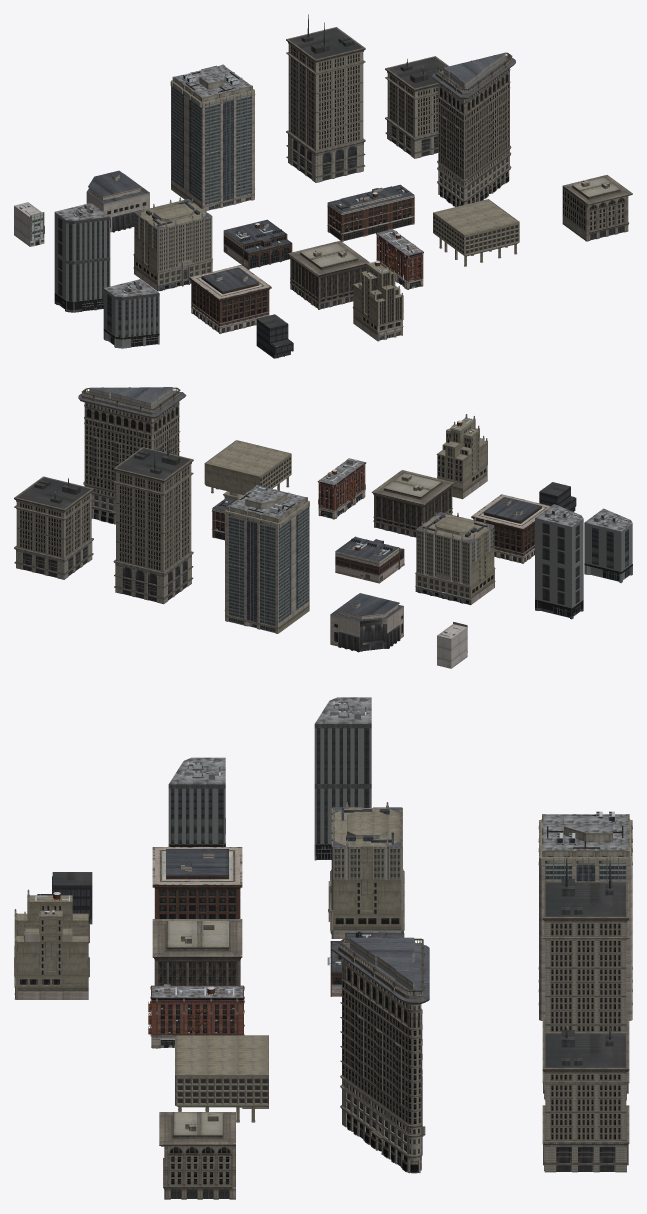
The model's file is Downtown_Buildings_Set.fbx.
The picture shows the model from 3 angles, top to bottom: view 1: azimuth 30°, elevation 25°; view 2: azimuth 150°, elevation 25°; view 3: azimuth 270°, elevation 25°; orthographic projection. The views are drawn at different scales.
Parts seen in each view (by area): view 1: Downtown_ModernOffice_4, Downtown_ModernOffice_5, Downtown_Flatiron_1, Downtown_ClassicOffice_1, Downtown_ModernOffice_1_B, Downtown_ModernOffice_5_B, Downtown_Residential_3, Downtown_Residential_4, Downtown_Brutal_1, Downtown_Residential_2, Downtown_BrownstoneOffice_1, Downtown_ModernOffice_1 (+6 smaller); view 2: Downtown_ModernOffice_4, Downtown_ModernOffice_5, Downtown_Flatiron_1, Downtown_ModernOffice_5_B, Downtown_ClassicOffice_1, Downtown_ModernOffice_1_B, Downtown_Residential_4, Downtown_Brutal_1, Downtown_PublicBuilding_1, Downtown_ModernOffice_1, Downtown_ArtDeco_1, Downtown_Residential_3 (+5 smaller); view 3: Downtown_Flatiron_1, Downtown_ModernOffice_5, Downtown_ModernOffice_5_B, Downtown_ClassicOffice_1, Downtown_ModernOffice_4, Downtown_ArtDeco_1, Downtown_ModernOffice_1_B, Downtown_Brutal_1, Downtown_Residential_2, Downtown_Residential_3, Downtown_Residential_4, Downtown_BrownstoneOffice_2 (+3 smaller).
Part boxes in pixels (bbox=[...]): Downtown_ModernOffice_4: bbox=[170, 64, 255, 210]; Downtown_ModernOffice_5: bbox=[286, 14, 365, 182]; Downtown_Flatiron_1: bbox=[432, 52, 515, 206]; Downtown_ClassicOffice_1: bbox=[133, 197, 212, 291]; Downtown_ModernOffice_1_B: bbox=[54, 203, 110, 312]; Downtown_ModernOffice_5_B: bbox=[385, 56, 448, 158]; Downtown_Residential_3: bbox=[189, 265, 271, 333]; Downtown_Residential_4: bbox=[288, 240, 369, 309]; Downtown_Brutal_1: bbox=[433, 199, 519, 266]; Downtown_Residential_2: bbox=[562, 175, 632, 241]; Downtown_BrownstoneOffice_1: bbox=[327, 184, 414, 241]; Downtown_ModernOffice_1: bbox=[103, 279, 159, 348]; Downtown_ModernOffice_4: bbox=[224, 485, 309, 633]; Downtown_ModernOffice_5: bbox=[113, 433, 193, 604]; Downtown_Flatiron_1: bbox=[78, 387, 186, 524]; Downtown_ModernOffice_5_B: bbox=[14, 476, 93, 579]; Downtown_ClassicOffice_1: bbox=[415, 510, 495, 605]; Downtown_ModernOffice_1_B: bbox=[535, 504, 583, 619]; Downtown_Residential_4: bbox=[371, 470, 454, 537]; Downtown_Brutal_1: bbox=[204, 440, 291, 499]; Downtown_PublicBuilding_1: bbox=[330, 593, 403, 652]; Downtown_ModernOffice_1: bbox=[584, 508, 632, 582]; Downtown_ArtDeco_1: bbox=[436, 414, 487, 499]; Downtown_Residential_3: bbox=[471, 494, 550, 563]; Downtown_Flatiron_1: bbox=[331, 937, 429, 1173]; Downtown_ModernOffice_5: bbox=[542, 852, 629, 1100]; Downtown_ModernOffice_5_B: bbox=[542, 1026, 629, 1172]; Downtown_ClassicOffice_1: bbox=[328, 802, 404, 938]; Downtown_ModernOffice_4: bbox=[538, 811, 632, 1020]; Downtown_ArtDeco_1: bbox=[14, 889, 89, 999]; Downtown_ModernOffice_1_B: bbox=[314, 697, 371, 860]; Downtown_Brutal_1: bbox=[175, 1035, 268, 1122]; Downtown_Residential_2: bbox=[159, 1112, 235, 1199]; Downtown_Residential_3: bbox=[152, 847, 242, 918]; Downtown_Residential_4: bbox=[152, 919, 242, 985]; Downtown_BrownstoneOffice_2: bbox=[148, 984, 244, 1048].
Size of the model in its own units: 359 by 103 by 255.
